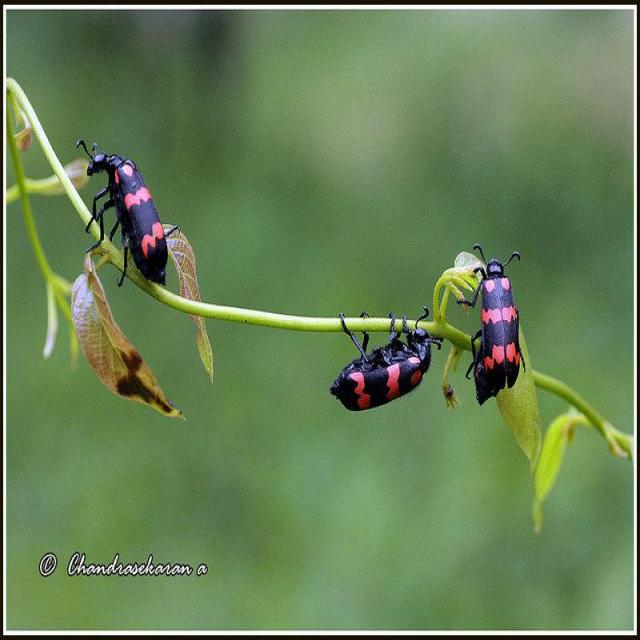BlisterBeetle-Adult-: (70, 134, 178, 294), (324, 305, 444, 417), (455, 238, 529, 412)
